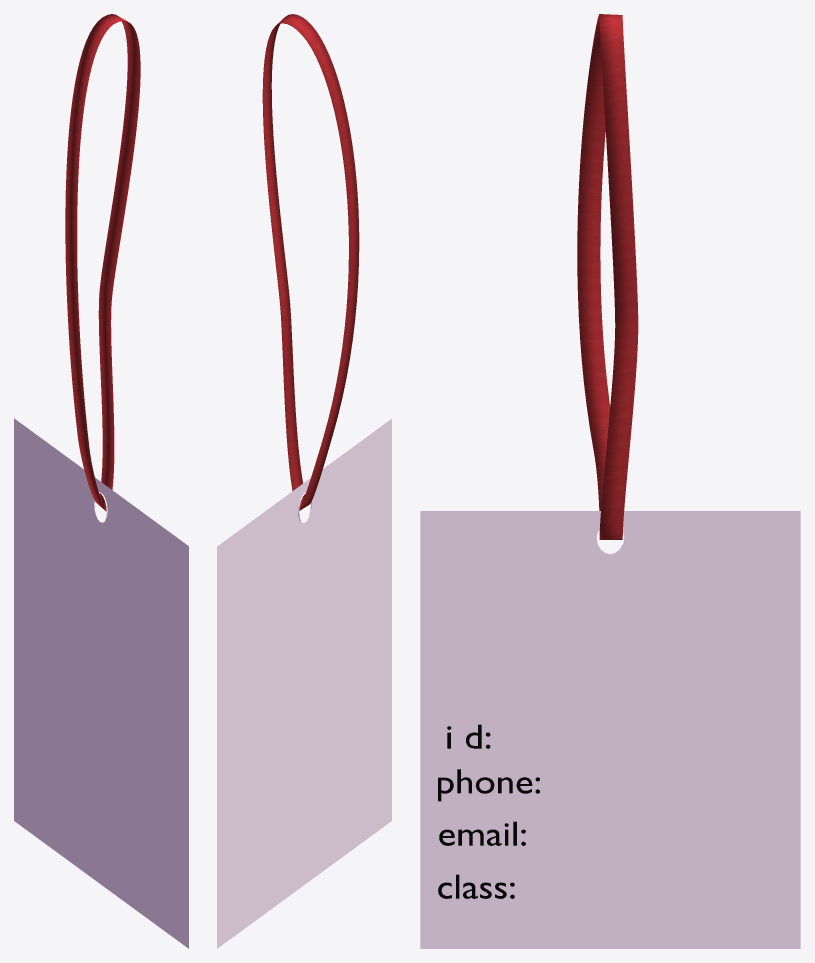
The model's file is id-card-design.gltf.
The picture shows the model from 3 angles, left to right: view 1: azimuth 30°, elevation 25°; view 2: azimuth 150°, elevation 25°; view 3: azimuth 270°, elevation 25°; orthographic projection. The views are drawn at different scales.
Visible parts, largest first — view 1: 平面, Ribbon; view 2: 平面, Ribbon; view 3: 平面, Ribbon, phone.
Part boxes in pixels (left/top/right/bottom): 平面: left=14, top=418, right=188, bottom=948; Ribbon: left=65, top=14, right=140, bottom=511; 平面: left=217, top=419, right=391, bottom=948; Ribbon: left=262, top=14, right=359, bottom=510; 平面: left=420, top=511, right=800, bottom=948; Ribbon: left=577, top=14, right=638, bottom=539; phone: left=438, top=769, right=539, bottom=801.
Size of the model in its own units: 0.397 by 4.29 by 1.57.
6 materials, 1 textured.
